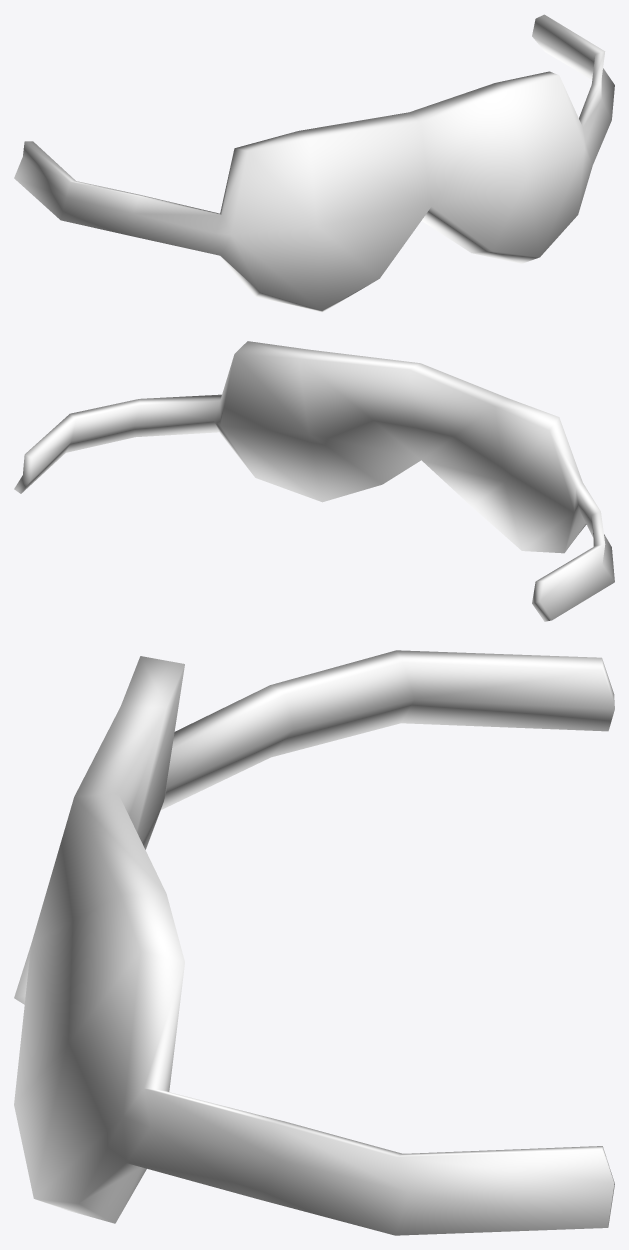
Rendered from eyemask.fbx.
3 views of the same model, one above another, from view 1: azimuth 30°, elevation 25°; view 2: azimuth 150°, elevation 25°; view 3: azimuth 270°, elevation 25° (orthographic). The views are drawn at different scales.
Parts seen in each view (by area): view 1: body.046; view 2: body.046; view 3: body.046.
Boxes of the visible parts, x1,y1,x2,y2 form: body.046: (14, 14, 614, 312); body.046: (14, 341, 614, 621); body.046: (14, 650, 614, 1235).
Size of the model in its own units: 38.25 by 10.97 by 18.51.
